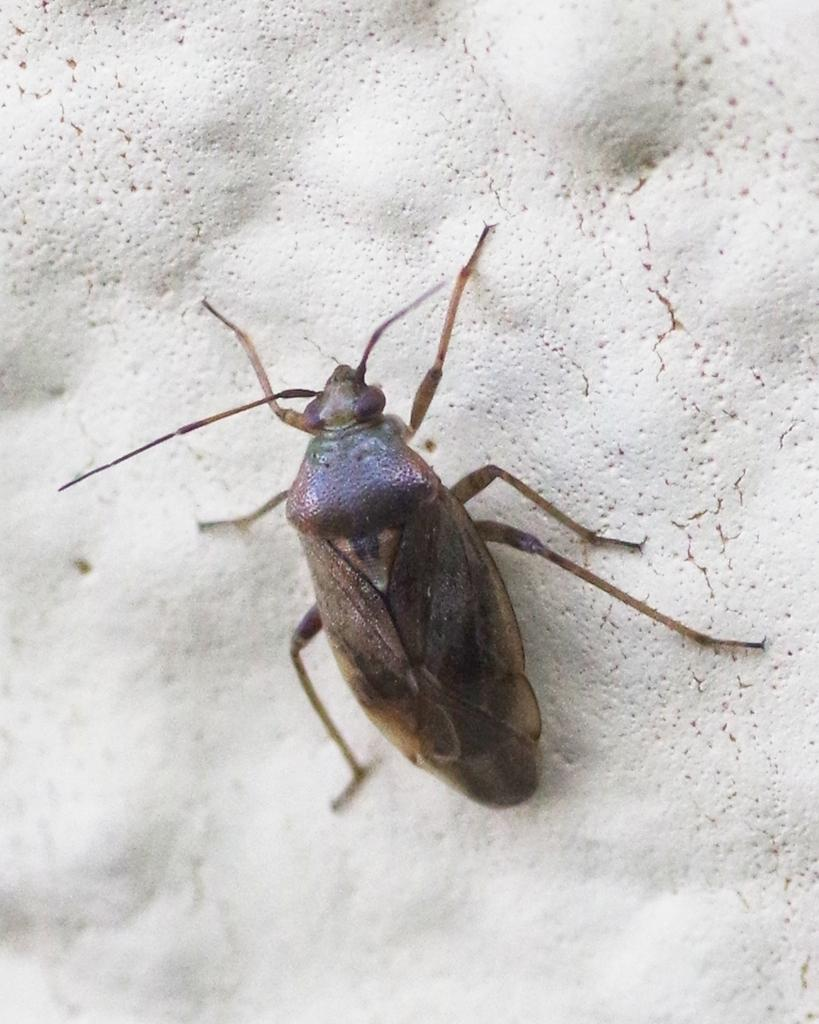plant_bugs: (0, 150, 819, 980)
